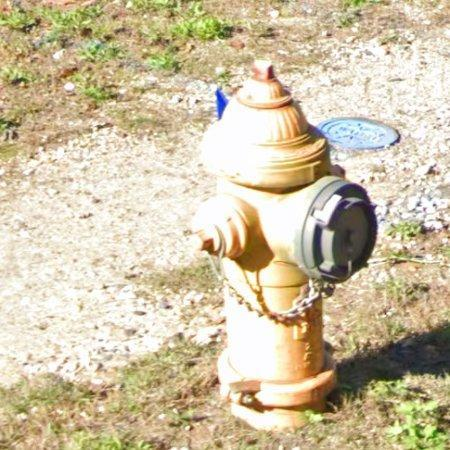a fire hydrant: (193, 63, 379, 431)
